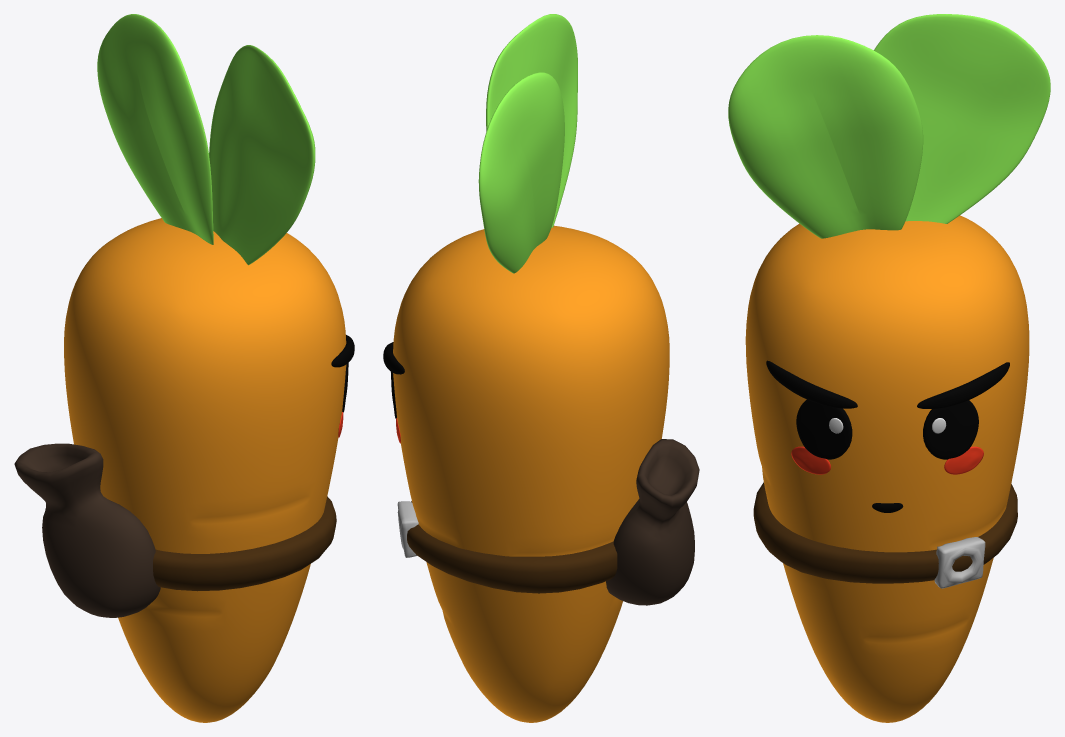
Rendered from carrot.fbx.
The picture shows the model from 3 angles, left to right: view 1: azimuth 30°, elevation 25°; view 2: azimuth 150°, elevation 25°; view 3: azimuth 270°, elevation 25°; orthographic projection. The views are drawn at different scales.
Parts seen in each view (by area): view 1: Cube.006; view 2: Cube.006; view 3: Cube.006.
Boxes of the visible parts, x1,y1,x2,y2 form: Cube.006: (14,14,354,722); Cube.006: (383,14,699,722); Cube.006: (728,14,1050,722).
Bounding box in the file's own units: 213 × 473 × 198.
